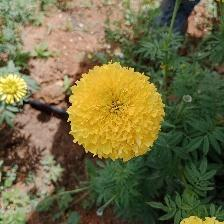marigold: (68, 67, 167, 162)
